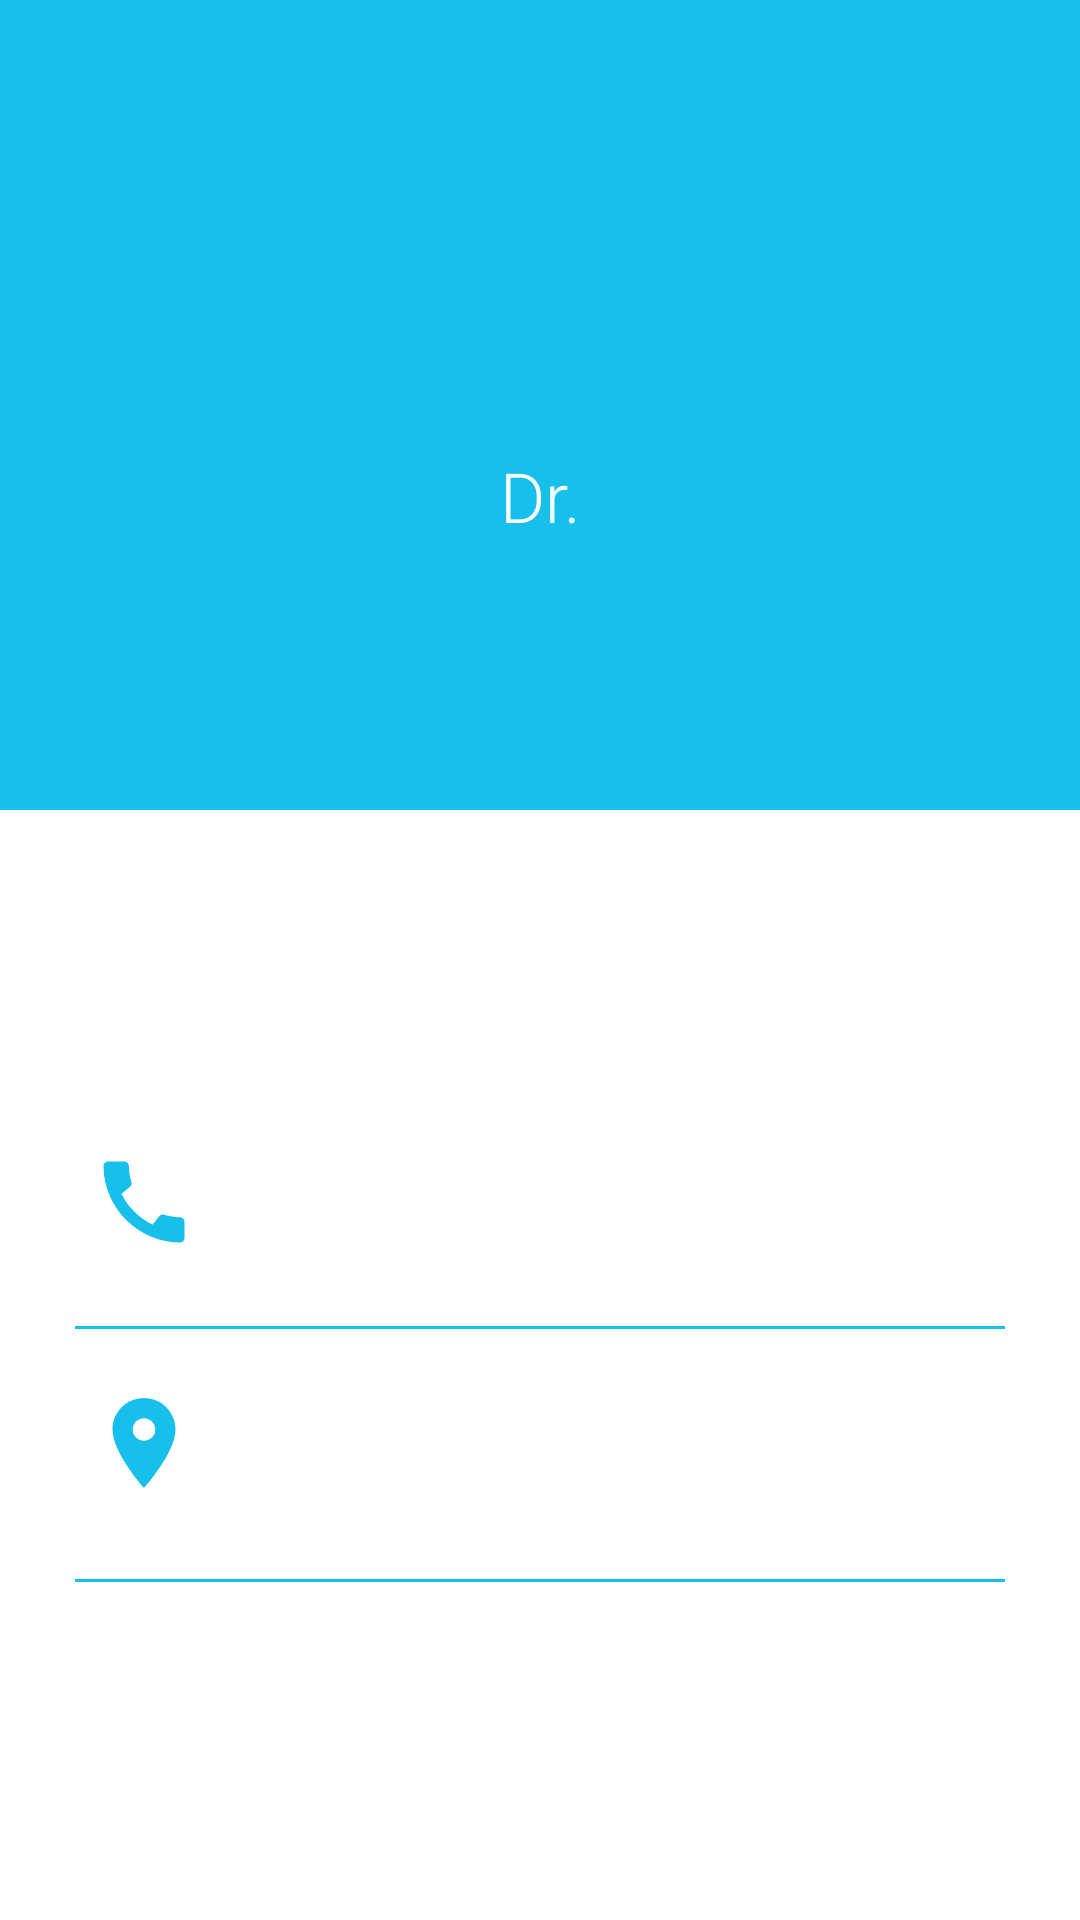

Icons on this 1080×1920 Android screen, each with its box as (x1, y1, x2, y2):
call: (103, 1161, 185, 1243)
location on: (112, 1398, 176, 1488)
